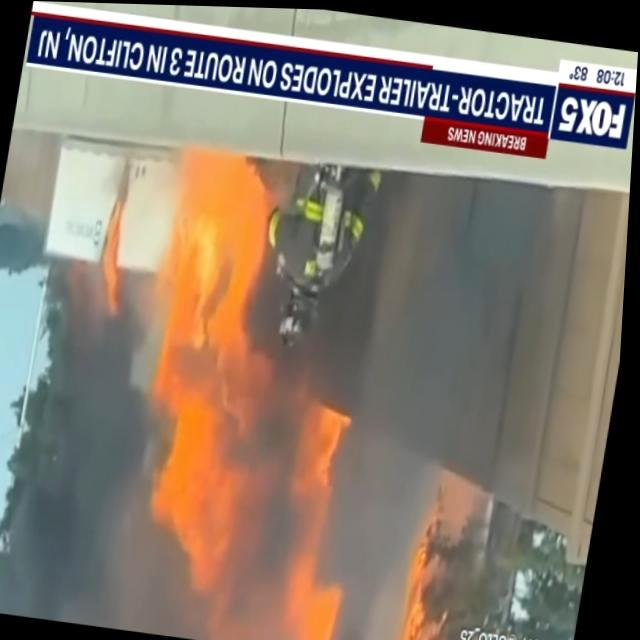fire: (96, 137, 302, 587), (284, 393, 362, 562), (389, 516, 459, 640), (281, 559, 354, 640)
